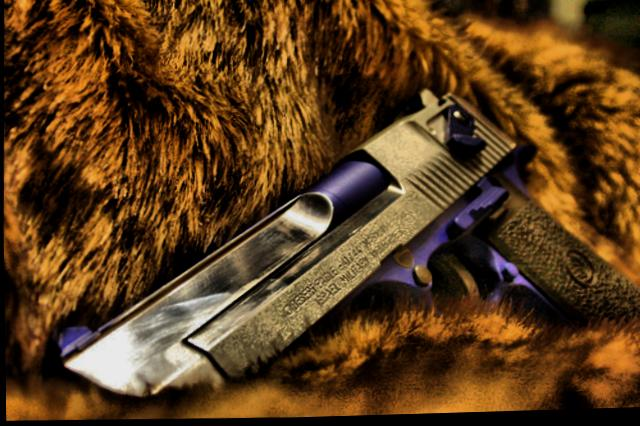pistol: (37, 79, 640, 398)
